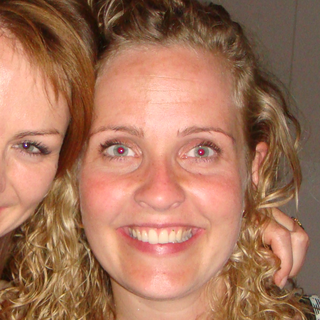eye: (10, 135, 52, 161), (182, 139, 227, 163), (95, 139, 139, 162)
